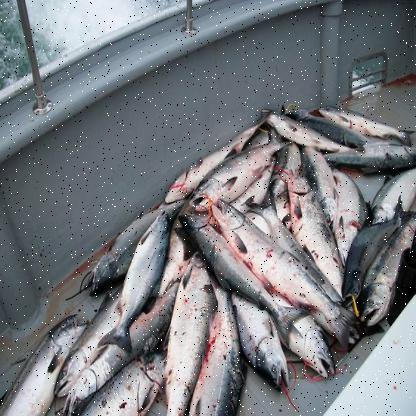fish: (210, 197, 356, 349), (175, 210, 307, 342), (92, 204, 172, 348), (288, 167, 346, 304), (193, 124, 289, 206), (342, 198, 406, 303), (360, 209, 415, 326), (266, 108, 356, 160), (314, 142, 416, 170)
